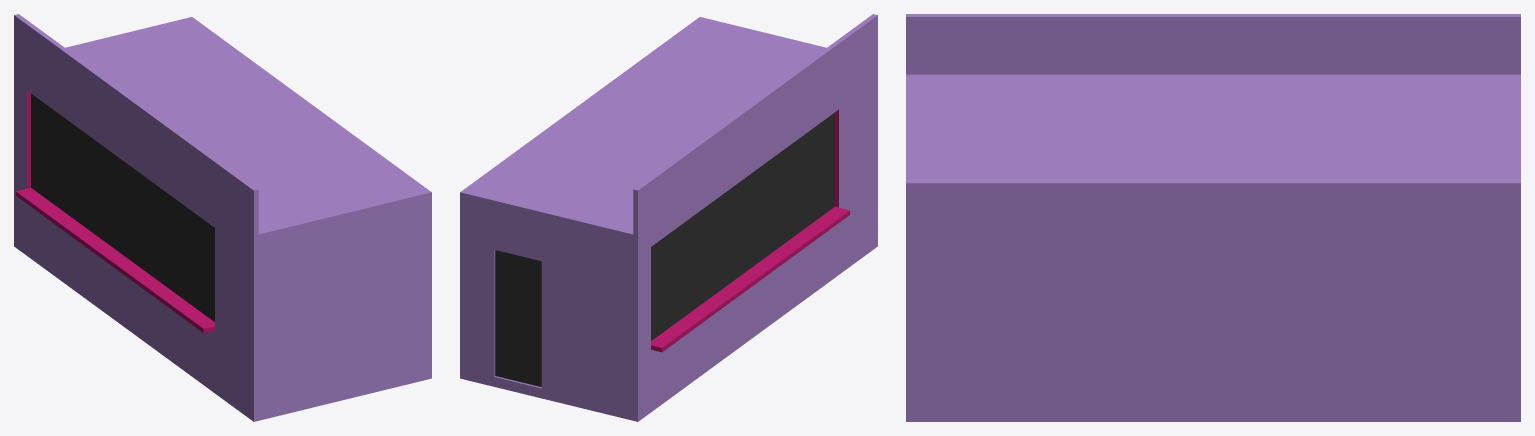
Rendered from AndreParfait.glb.
3 views of the same model, side by side, from view 1: azimuth 30°, elevation 25°; view 2: azimuth 150°, elevation 25°; view 3: azimuth 270°, elevation 25° (orthographic). The views are drawn at different scales.
Visible parts, largest first — view 1: Cube; view 2: Cube; view 3: Cube.
Part boxes in pixels (x1,y1,x2,y2): Cube: [14, 14, 431, 421]; Cube: [460, 14, 877, 421]; Cube: [906, 14, 1520, 421].
Size of the model in its own units: 3.19 by 3.73 by 7.
